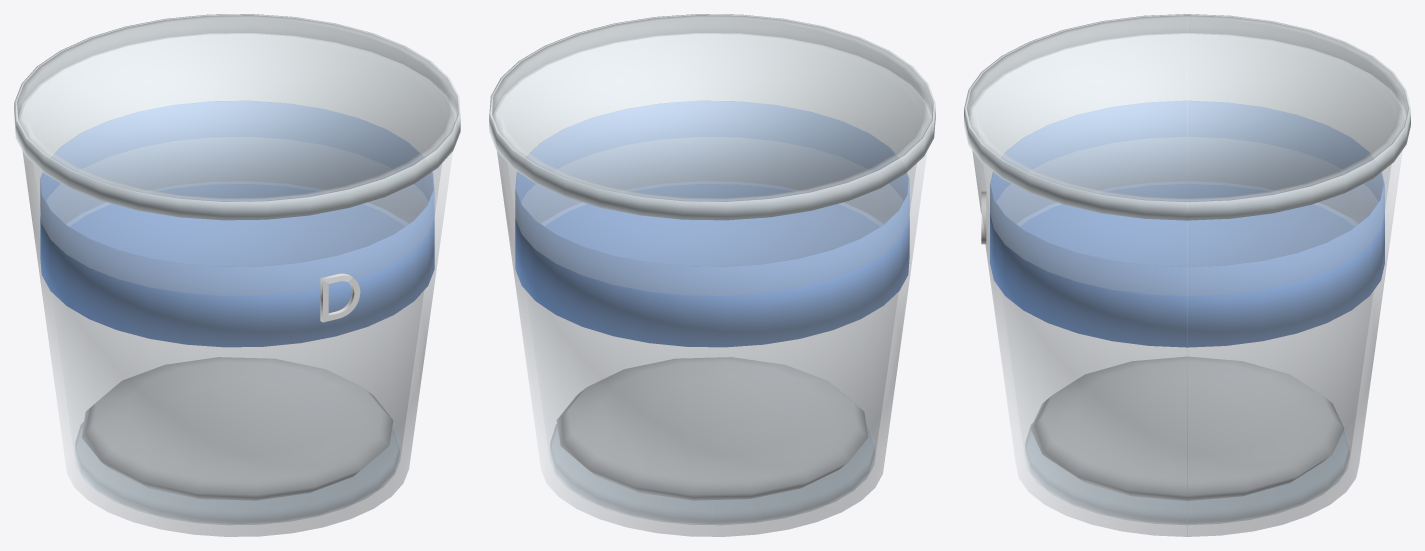
Rendered from cup_D.glb.
The picture shows the model from 3 angles, left to right: view 1: azimuth 30°, elevation 25°; view 2: azimuth 150°, elevation 25°; view 3: azimuth 270°, elevation 25°; orthographic projection.
Visible parts, largest first — view 1: cupD_body, frost, cupD_label, cotton, water_film, cupD_letter; view 2: cupD_body, cupD_label, frost, cotton, water_film; view 3: cupD_body, cupD_label, frost, cotton, water_film.
Part boxes in pixels (box(x1,y1,x2,y2)): cupD_body: box(17, 15, 457, 536); frost: box(14, 14, 460, 220); cupD_label: box(40, 101, 434, 347); cotton: box(82, 357, 393, 500); water_film: box(75, 422, 399, 523); cupD_letter: box(320, 273, 360, 322); cupD_body: box(492, 15, 932, 536); cupD_label: box(515, 101, 909, 347); frost: box(489, 14, 935, 220); cotton: box(556, 357, 867, 500); water_film: box(550, 422, 874, 523); cupD_body: box(966, 15, 1408, 536); cupD_label: box(990, 101, 1384, 347); frost: box(964, 14, 1410, 220); cotton: box(1030, 356, 1344, 500); water_film: box(1025, 423, 1349, 523).
Size of the model in its own units: 0.091 by 0.08 by 0.091.
